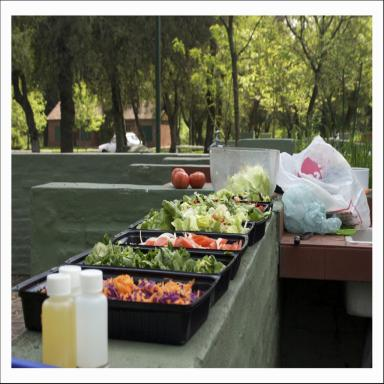plasticbag: (276, 132, 371, 230), (281, 184, 342, 234)
